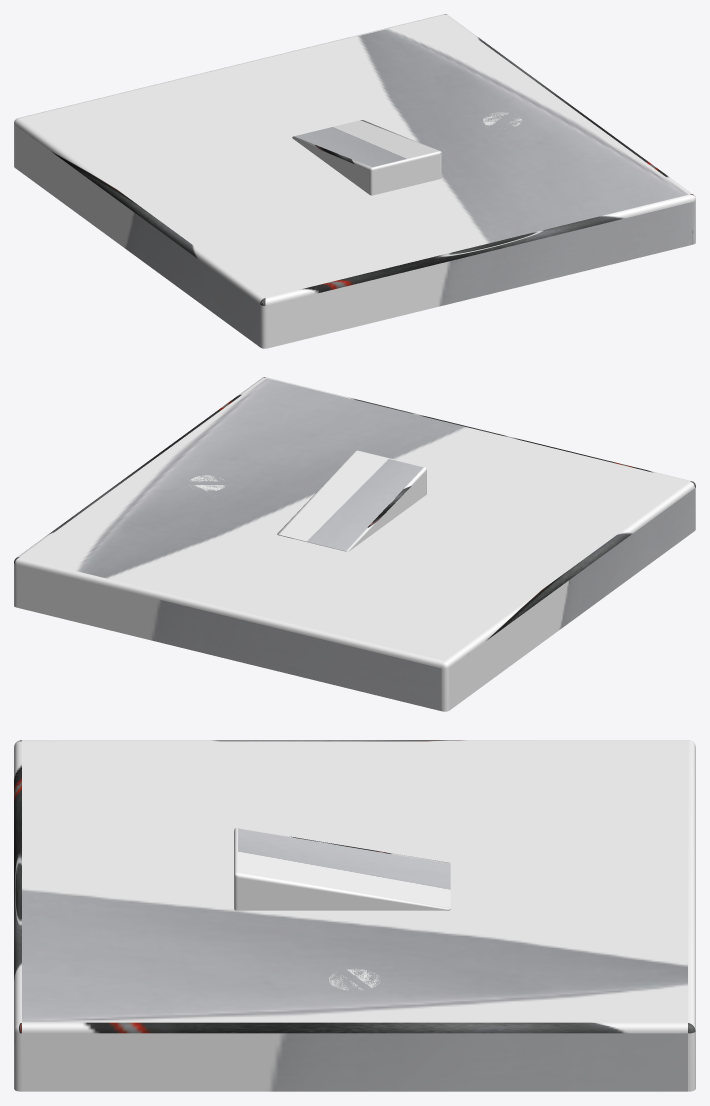
The model's file is lightswitch.FBX.
3 views of the same model, one above another, from view 1: azimuth 30°, elevation 25°; view 2: azimuth 150°, elevation 25°; view 3: azimuth 270°, elevation 25° (orthographic). The views are drawn at different scales.
Visible parts, largest first — view 1: Light Switch; view 2: Light Switch; view 3: Light Switch.
Part boxes in pixels (box(x1,y1,x2,y2)): Light Switch: box(14, 14, 695, 348); Light Switch: box(14, 377, 695, 711); Light Switch: box(14, 740, 695, 1091).
Size of what is drawn, in the model's own units: 33.46 by 5.53 by 33.46.
